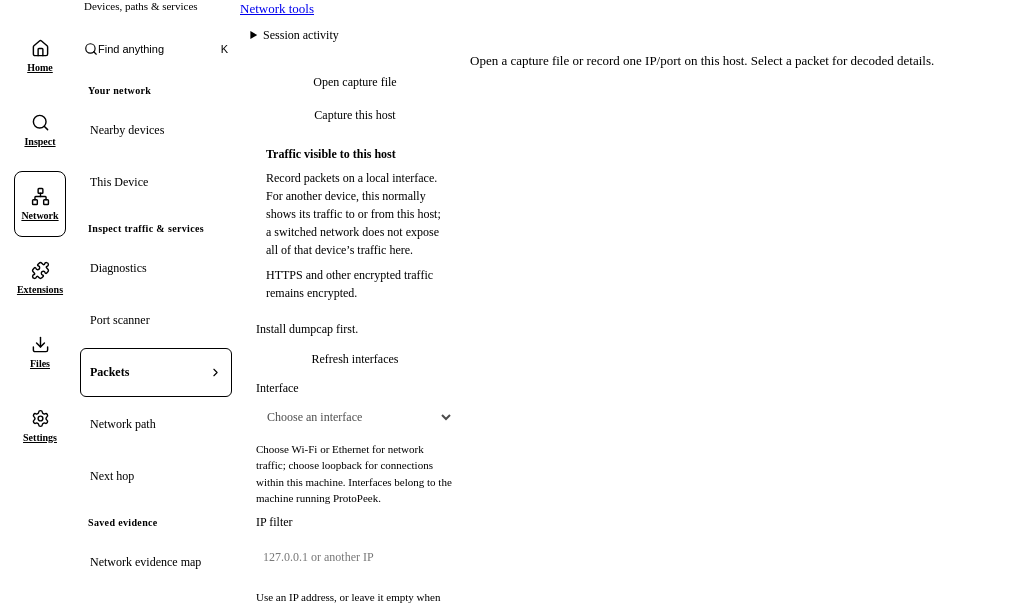
Test: keeps capture unavailable until support is installed, then retries read-only discovery
This screenshot has width=1024, height=607.
Expected: the text "Install dumpcap first." is shown, [256,322,358,336]
Click the button "Refresh interfaces" at [355, 360], box [256,346,454,373]
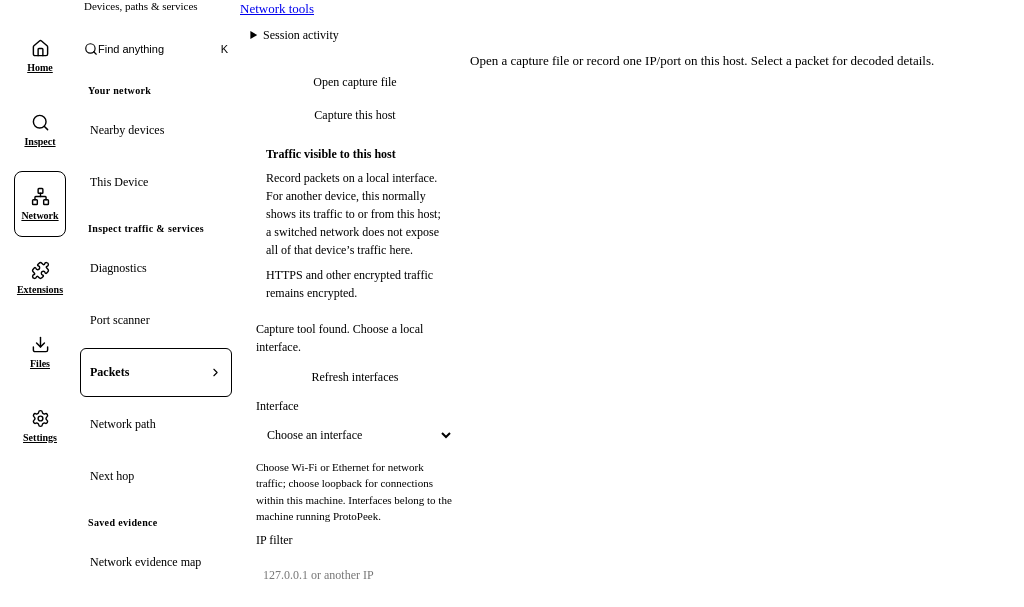
Select "Wi-Fi" in the dropdown labelled "Interface" at [355, 435], box [256,419,454,451]
(page scrolled)
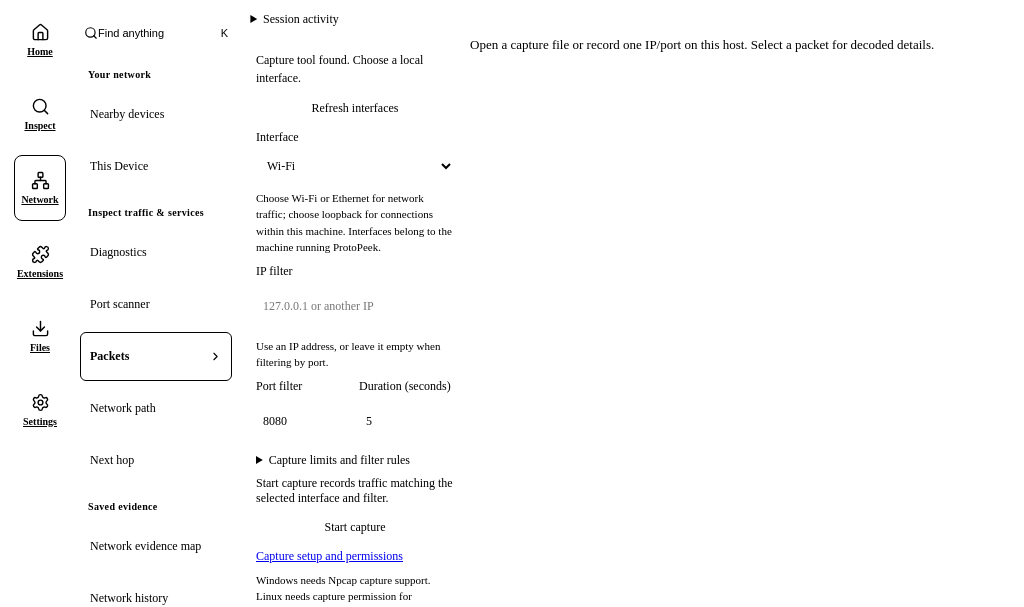
Now the button "Start capture" is enabled, box [256,514,454,541]
